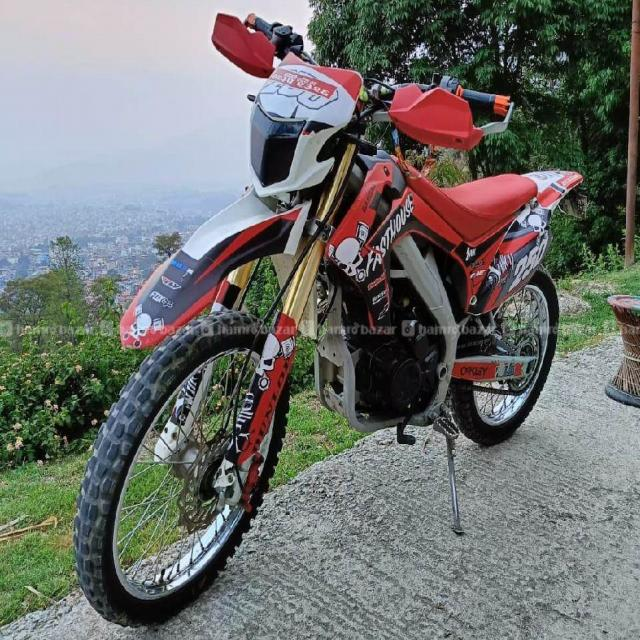License-plate: (262, 62, 337, 105)
